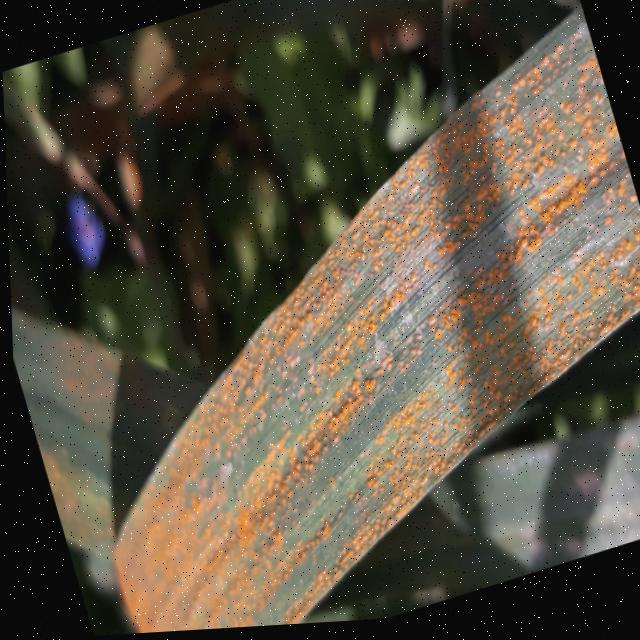yellow_rust: (1, 0, 640, 640)
